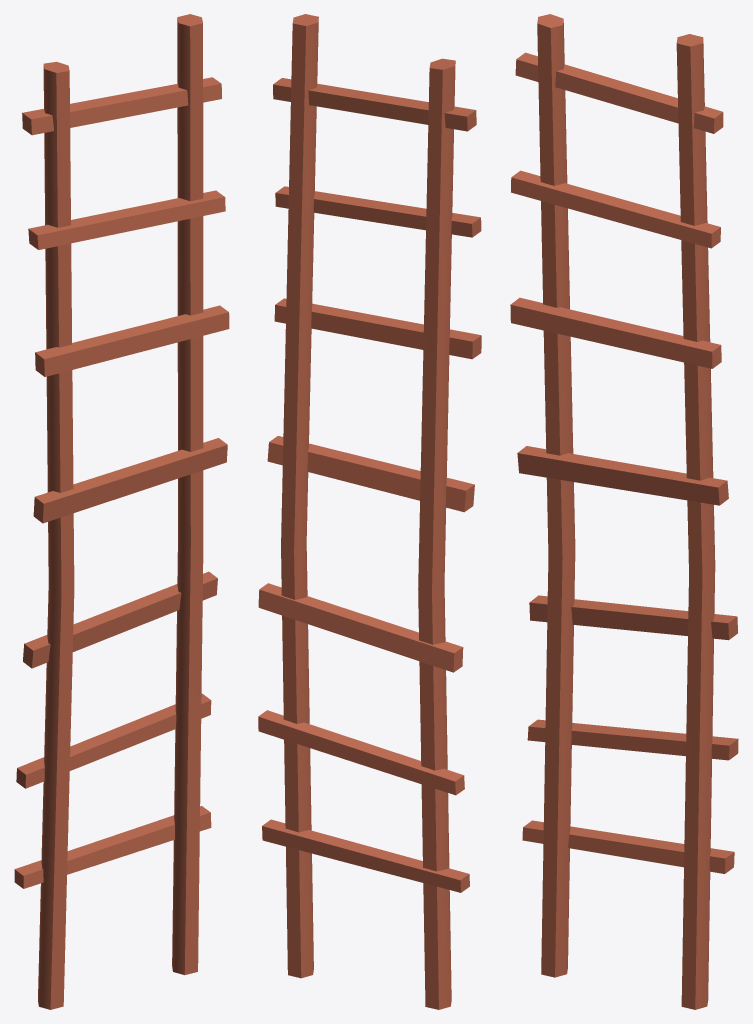
File: Ladder.fbx
3 views of the same model, side by side, from view 1: azimuth 30°, elevation 25°; view 2: azimuth 150°, elevation 25°; view 3: azimuth 330°, elevation 25° (orthographic).
Visible parts, largest first — view 1: SM_Prop_Ladder_01; view 2: SM_Prop_Ladder_01; view 3: SM_Prop_Ladder_01.
Boxes of the visible parts, box(x1,y1,x2,y2) form: SM_Prop_Ladder_01: box(14, 14, 229, 1009); SM_Prop_Ladder_01: box(258, 14, 481, 1009); SM_Prop_Ladder_01: box(510, 14, 738, 1009).
Size of the model in its own units: 70.17 by 321 by 20.43.
